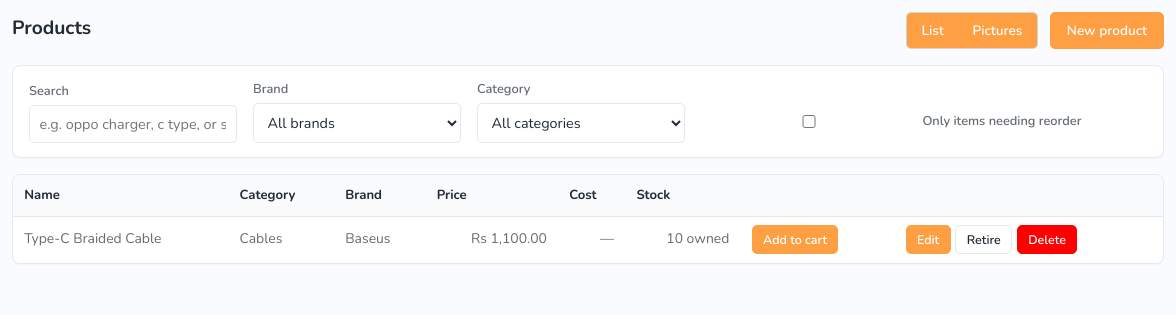
Test: Products filters › says so when the chosen filters match nothing
The width and height of the screenshot is (1176, 315).
Select "Samsung" in the dropdown labelled "Brand" at (357, 123), box [253,103,461,143]
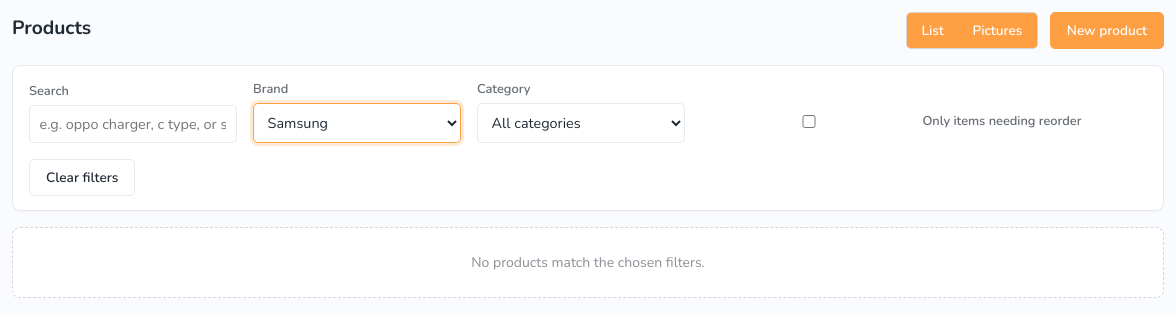
Now the text "No products match the chosen filters." is shown, box [12,227,1164,298]
